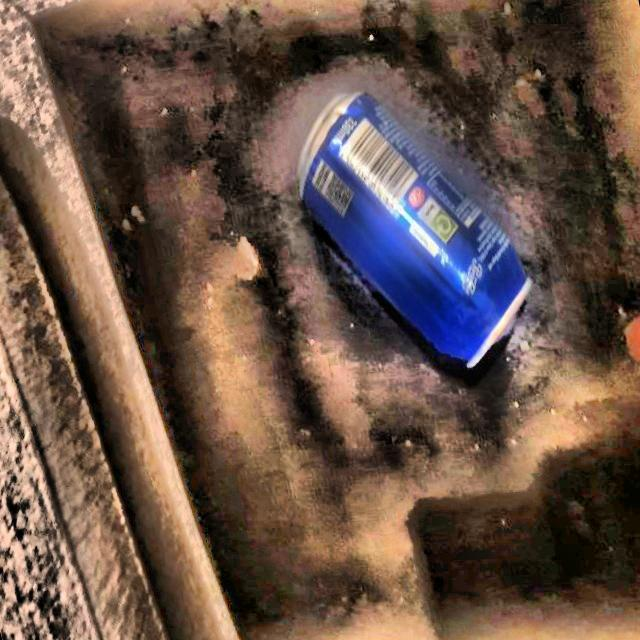pepsi-can: (293, 89, 532, 370)
